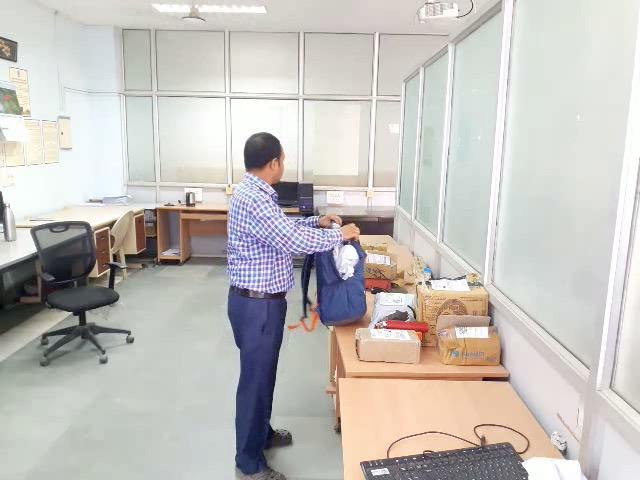shoplifting: (199, 194, 436, 331)
